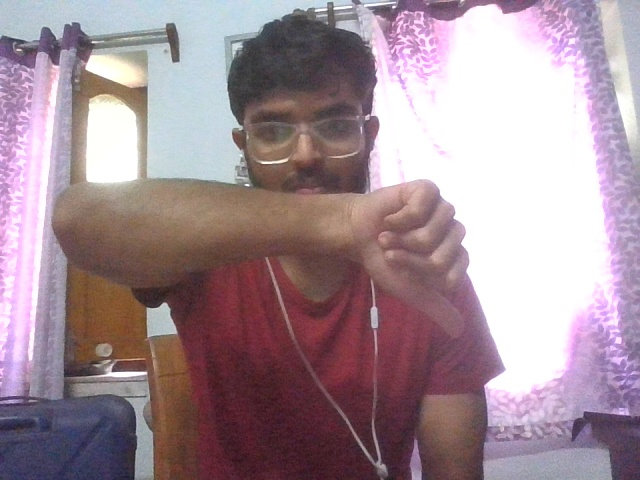ThumbsDown: (365, 179, 470, 339)
